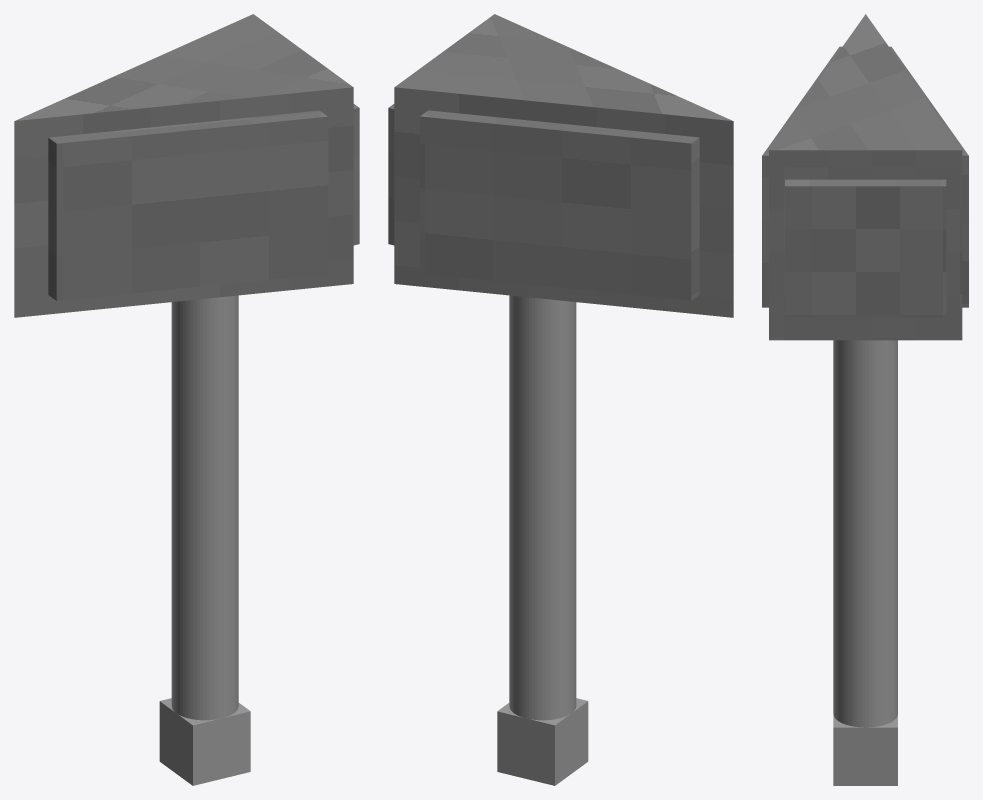
File: itemstonesuperaxe.obj
3 views of the same model, side by side, from view 1: azimuth 30°, elevation 25°; view 2: azimuth 150°, elevation 25°; view 3: azimuth 270°, elevation 25° (orthographic). The views are drawn at different scales.
Visible parts, largest first — view 1: HammerHead_Cube.002, HammerHandle_Cylinder.003, BottomHammer_Cube.003; view 2: HammerHead_Cube.002, HammerHandle_Cylinder.003, BottomHammer_Cube.003; view 3: HammerHead_Cube.002, HammerHandle_Cylinder.003, BottomHammer_Cube.003.
Boxes of the visible parts, <box> form: HammerHead_Cube.002: <box>14,14,359,317</box>; HammerHandle_Cylinder.003: <box>171,295,238,720</box>; BottomHammer_Cube.003: <box>159,698,250,785</box>; HammerHead_Cube.002: <box>388,14,733,317</box>; HammerHandle_Cylinder.003: <box>509,295,576,720</box>; BottomHammer_Cube.003: <box>497,698,588,785</box>; HammerHead_Cube.002: <box>762,14,968,340</box>; HammerHandle_Cylinder.003: <box>833,340,897,727</box>; BottomHammer_Cube.003: <box>833,714,897,785</box>.
Size of the model in its own units: 0.6562 by 1.43 by 0.4007.
